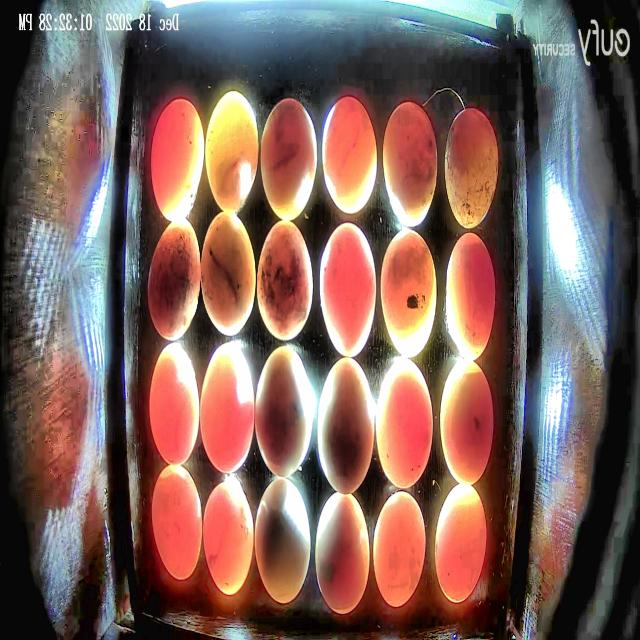DE: (319, 220, 377, 358), (318, 357, 374, 496), (255, 346, 313, 477), (376, 357, 434, 487), (380, 230, 437, 358), (254, 476, 311, 604), (260, 97, 318, 220), (200, 342, 254, 472), (200, 212, 256, 336), (257, 218, 313, 341), (383, 102, 438, 225), (204, 91, 259, 214), (440, 361, 495, 484), (315, 492, 370, 613), (148, 218, 202, 341), (150, 98, 203, 223), (444, 108, 498, 230), (323, 96, 378, 214), (434, 482, 487, 604), (149, 342, 200, 468), (446, 233, 495, 361), (374, 490, 427, 608), (151, 464, 203, 581), (203, 479, 254, 594)
